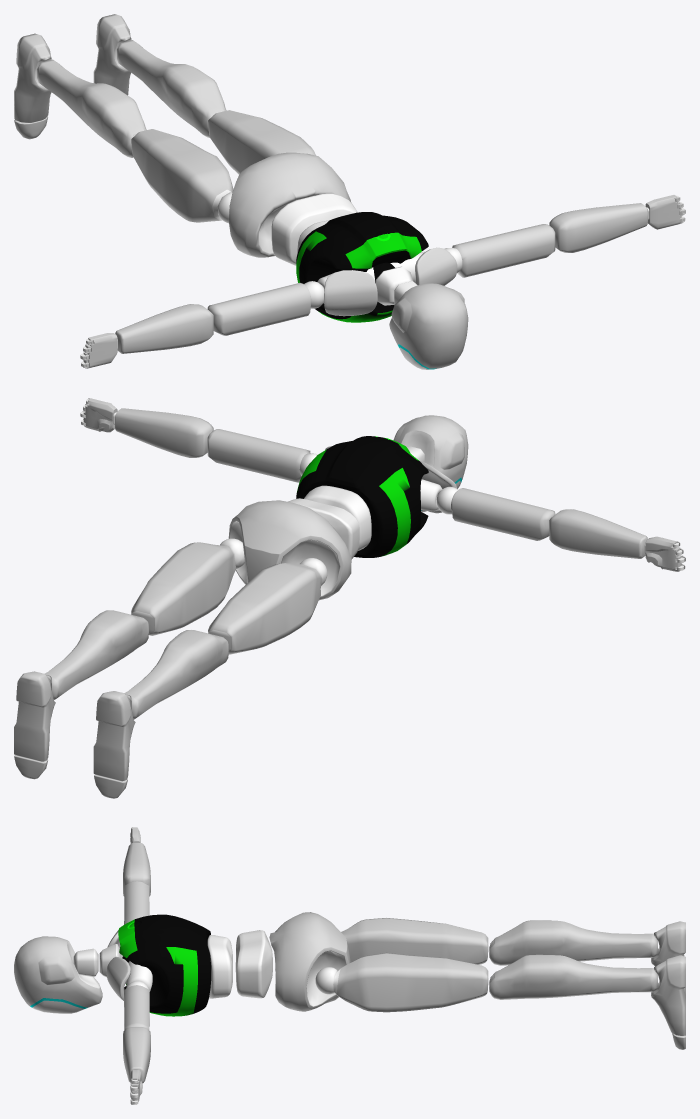
File: PNSRobot_X90_Z_Up_noHand.fbx
The picture shows the model from 3 angles, top to bottom: view 1: azimuth 30°, elevation 25°; view 2: azimuth 150°, elevation 25°; view 3: azimuth 270°, elevation 25°; orthographic projection. The views are drawn at different scales.
Visible parts, largest first — view 1: SM_Spine2, SM_Hips, SM_RightUpLeg, SM_Head, SM_RightLeg, SM_LeftLeg, SM_LeftUpLeg, SM_RightArm, SM_LeftArm, SM_RightForeArm, SM_LeftForeArm, SM_Spine (+7 smaller); view 2: SM_Spine2, SM_Hips, SM_RightUpLeg, SM_LeftUpLeg, SM_LeftLeg, SM_RightLeg, SM_RightArm, SM_LeftArm, SM_RightForeArm, SM_LeftForeArm, SM_Head, SM_RightFoot (+6 smaller); view 3: SM_LeftUpLeg, SM_Spine2, SM_LeftLeg, SM_Hips, SM_RightLeg, SM_RightUpLeg, SM_Head, SM_Spine, SM_LeftFoot, SM_Spine1, SM_LeftForeArm, SM_LeftArm (+5 smaller).
Boxes of the visible parts, <box> form: SM_Spine2: <box>296,212,428,322</box>; SM_Hips: <box>228,152,351,257</box>; SM_RightUpLeg: <box>131,129,233,223</box>; SM_Head: <box>389,283,468,369</box>; SM_RightLeg: <box>37,59,146,157</box>; SM_LeftLeg: <box>117,40,226,137</box>; SM_LeftUpLeg: <box>208,110,315,174</box>; SM_RightArm: <box>207,281,324,335</box>; SM_LeftArm: <box>444,224,555,277</box>; SM_RightForeArm: <box>115,304,213,353</box>; SM_LeftForeArm: <box>549,203,647,252</box>; SM_Spine: <box>271,193,357,265</box>; SM_Spine2: <box>296,436,428,557</box>; SM_Hips: <box>228,500,351,600</box>; SM_RightUpLeg: <box>208,558,327,654</box>; SM_LeftUpLeg: <box>131,538,244,635</box>; SM_LeftLeg: <box>45,610,148,699</box>; SM_RightLeg: <box>124,630,228,719</box>; SM_RightArm: <box>436,486,555,540</box>; SM_LeftArm: <box>207,429,317,482</box>; SM_RightForeArm: <box>549,509,647,558</box>; SM_LeftForeArm: <box>115,408,213,457</box>; SM_Head: <box>393,415,468,512</box>; SM_RightFoot: <box>93,691,135,781</box>; SM_LeftUpLeg: <box>315,952,488,1012</box>; SM_Spine2: <box>118,914,211,1016</box>; SM_LeftLeg: <box>489,954,657,999</box>; SM_Hips: <box>269,912,350,1011</box>; SM_RightLeg: <box>489,920,657,965</box>; SM_RightUpLeg: <box>341,918,488,964</box>; SM_Head: <box>14,936,102,1013</box>; SM_Spine: <box>235,930,272,998</box>; SM_LeftFoot: <box>651,955,685,1035</box>; SM_Spine1: <box>207,935,232,998</box>; SM_LeftForeArm: <box>123,1027,150,1083</box>; SM_LeftArm: <box>124,981,149,1029</box>.
Size of the model in its own units: 166 by 33.51 by 183.
